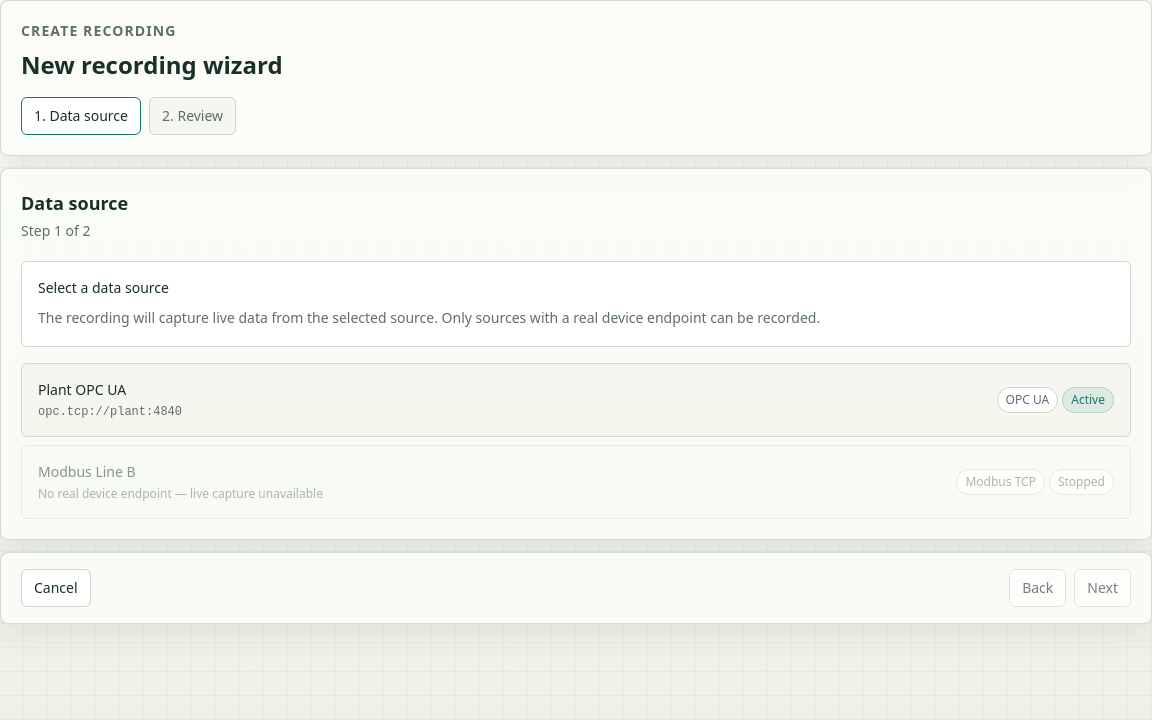
Scenario: CreateRecordingWizardPage — step 2 (Review) › shows Start capture button on review step
Step 1. Click the text "Plant OPC UA" → [82, 390], box left=38, top=380, right=126, bottom=399
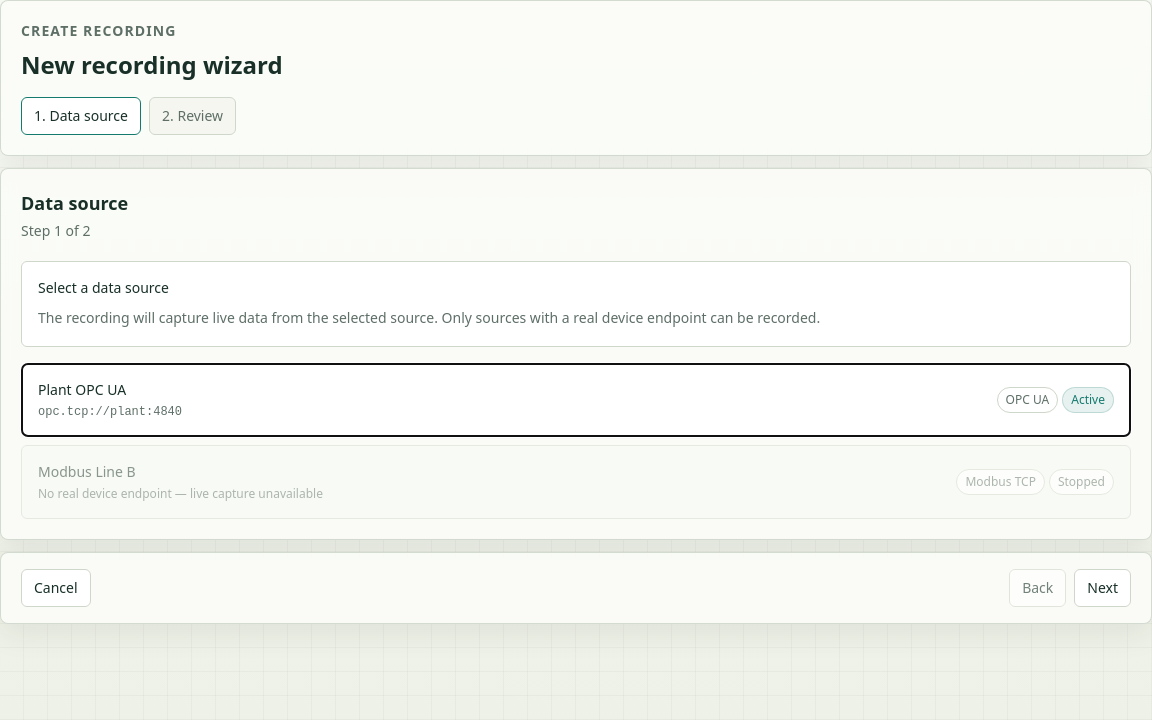
Step 2. Click the button "Next" → [1103, 588], box left=1074, top=569, right=1131, bottom=607
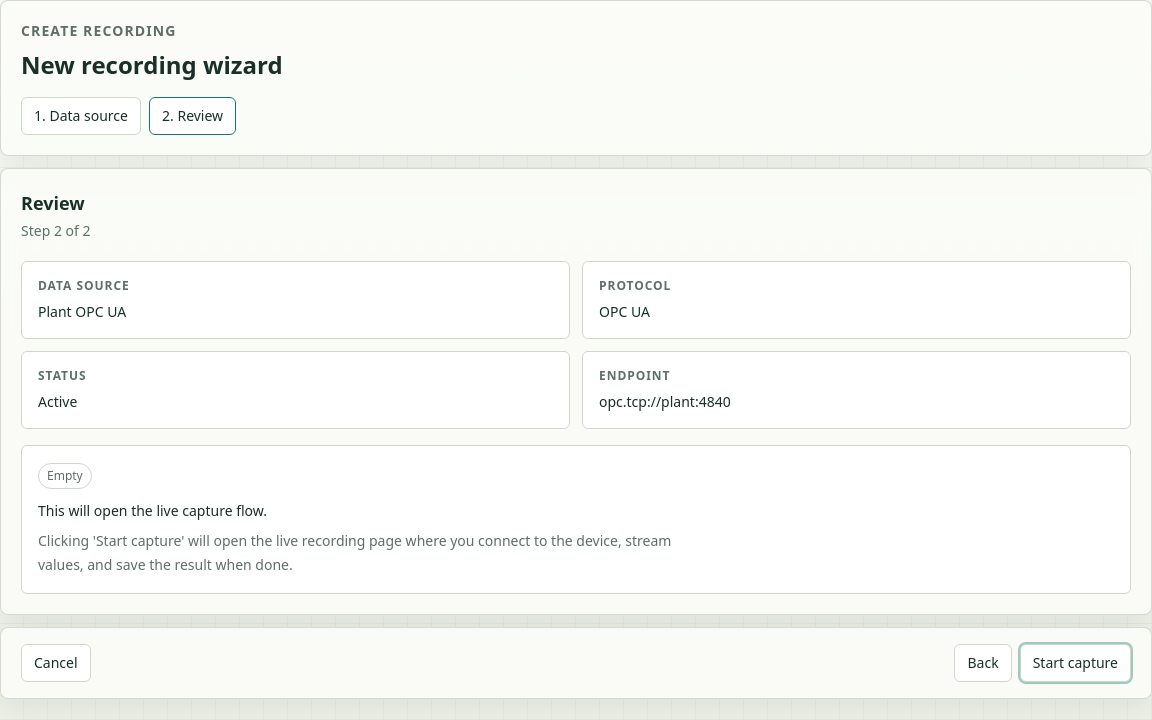
Expected: the button "Start capture" is shown, left=1020, top=644, right=1131, bottom=682
